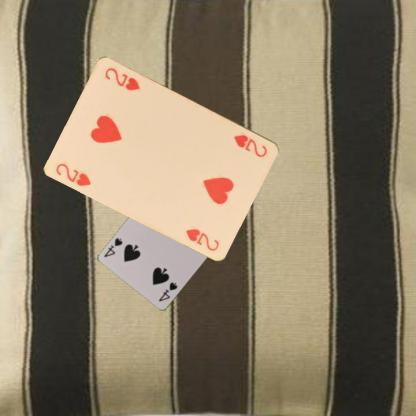2h: (54, 160, 93, 187), (231, 132, 269, 158)
4s: (156, 280, 179, 302)
